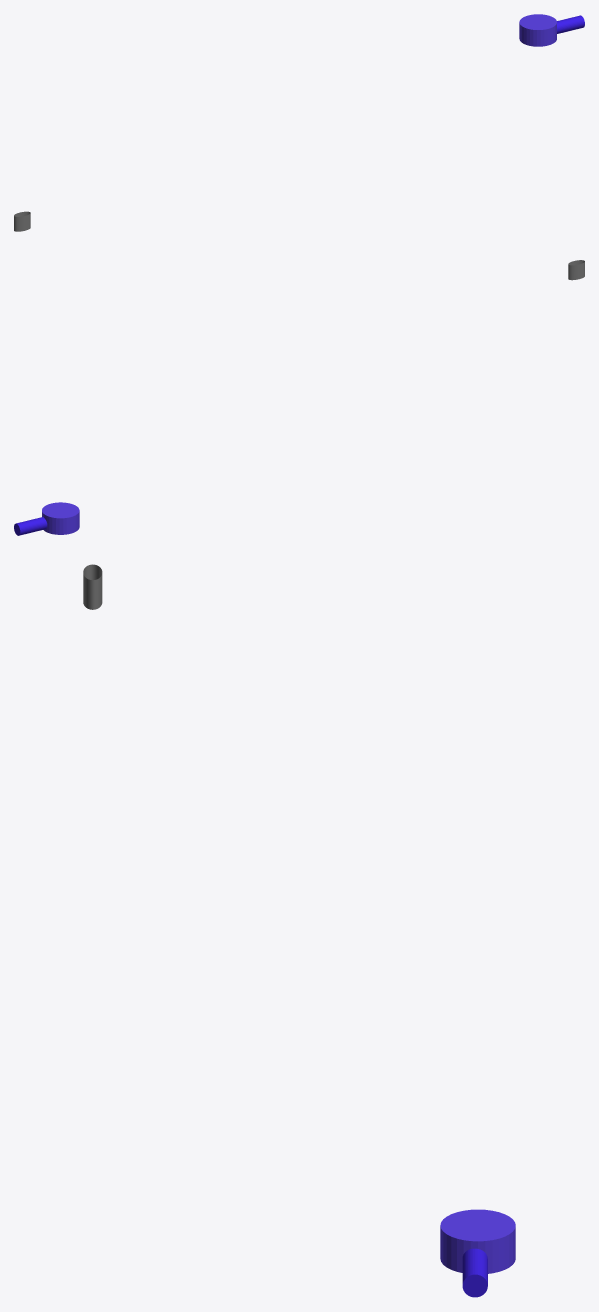
Rendered from wirecuff_no15.glb.
3 renders of one model, top to bottom at view 1: azimuth 30°, elevation 25°; view 2: azimuth 210°, elevation 25°; view 3: azimuth 270°, elevation 25°, orthographic. The views are drawn at different scales.
Parts seen in each view (by area): view 1: Cylinder, Cylinder.001, daydo.001; view 2: Cylinder, Cylinder.001; view 3: Cylinder, Cylinder.001.
Boxes of the visible parts, x1,y1,x2,y2 form: Cylinder: (519,14,556,46); Cylinder.001: (557,15,584,33); daydo.001: (14,211,30,231); Cylinder: (42,502,79,534); Cylinder.001: (14,517,47,535); Cylinder: (440,1209,515,1273); Cylinder.001: (462,1248,487,1297).
Size of the model in its own units: 3.37 by 0.2158 by 0.9529.
